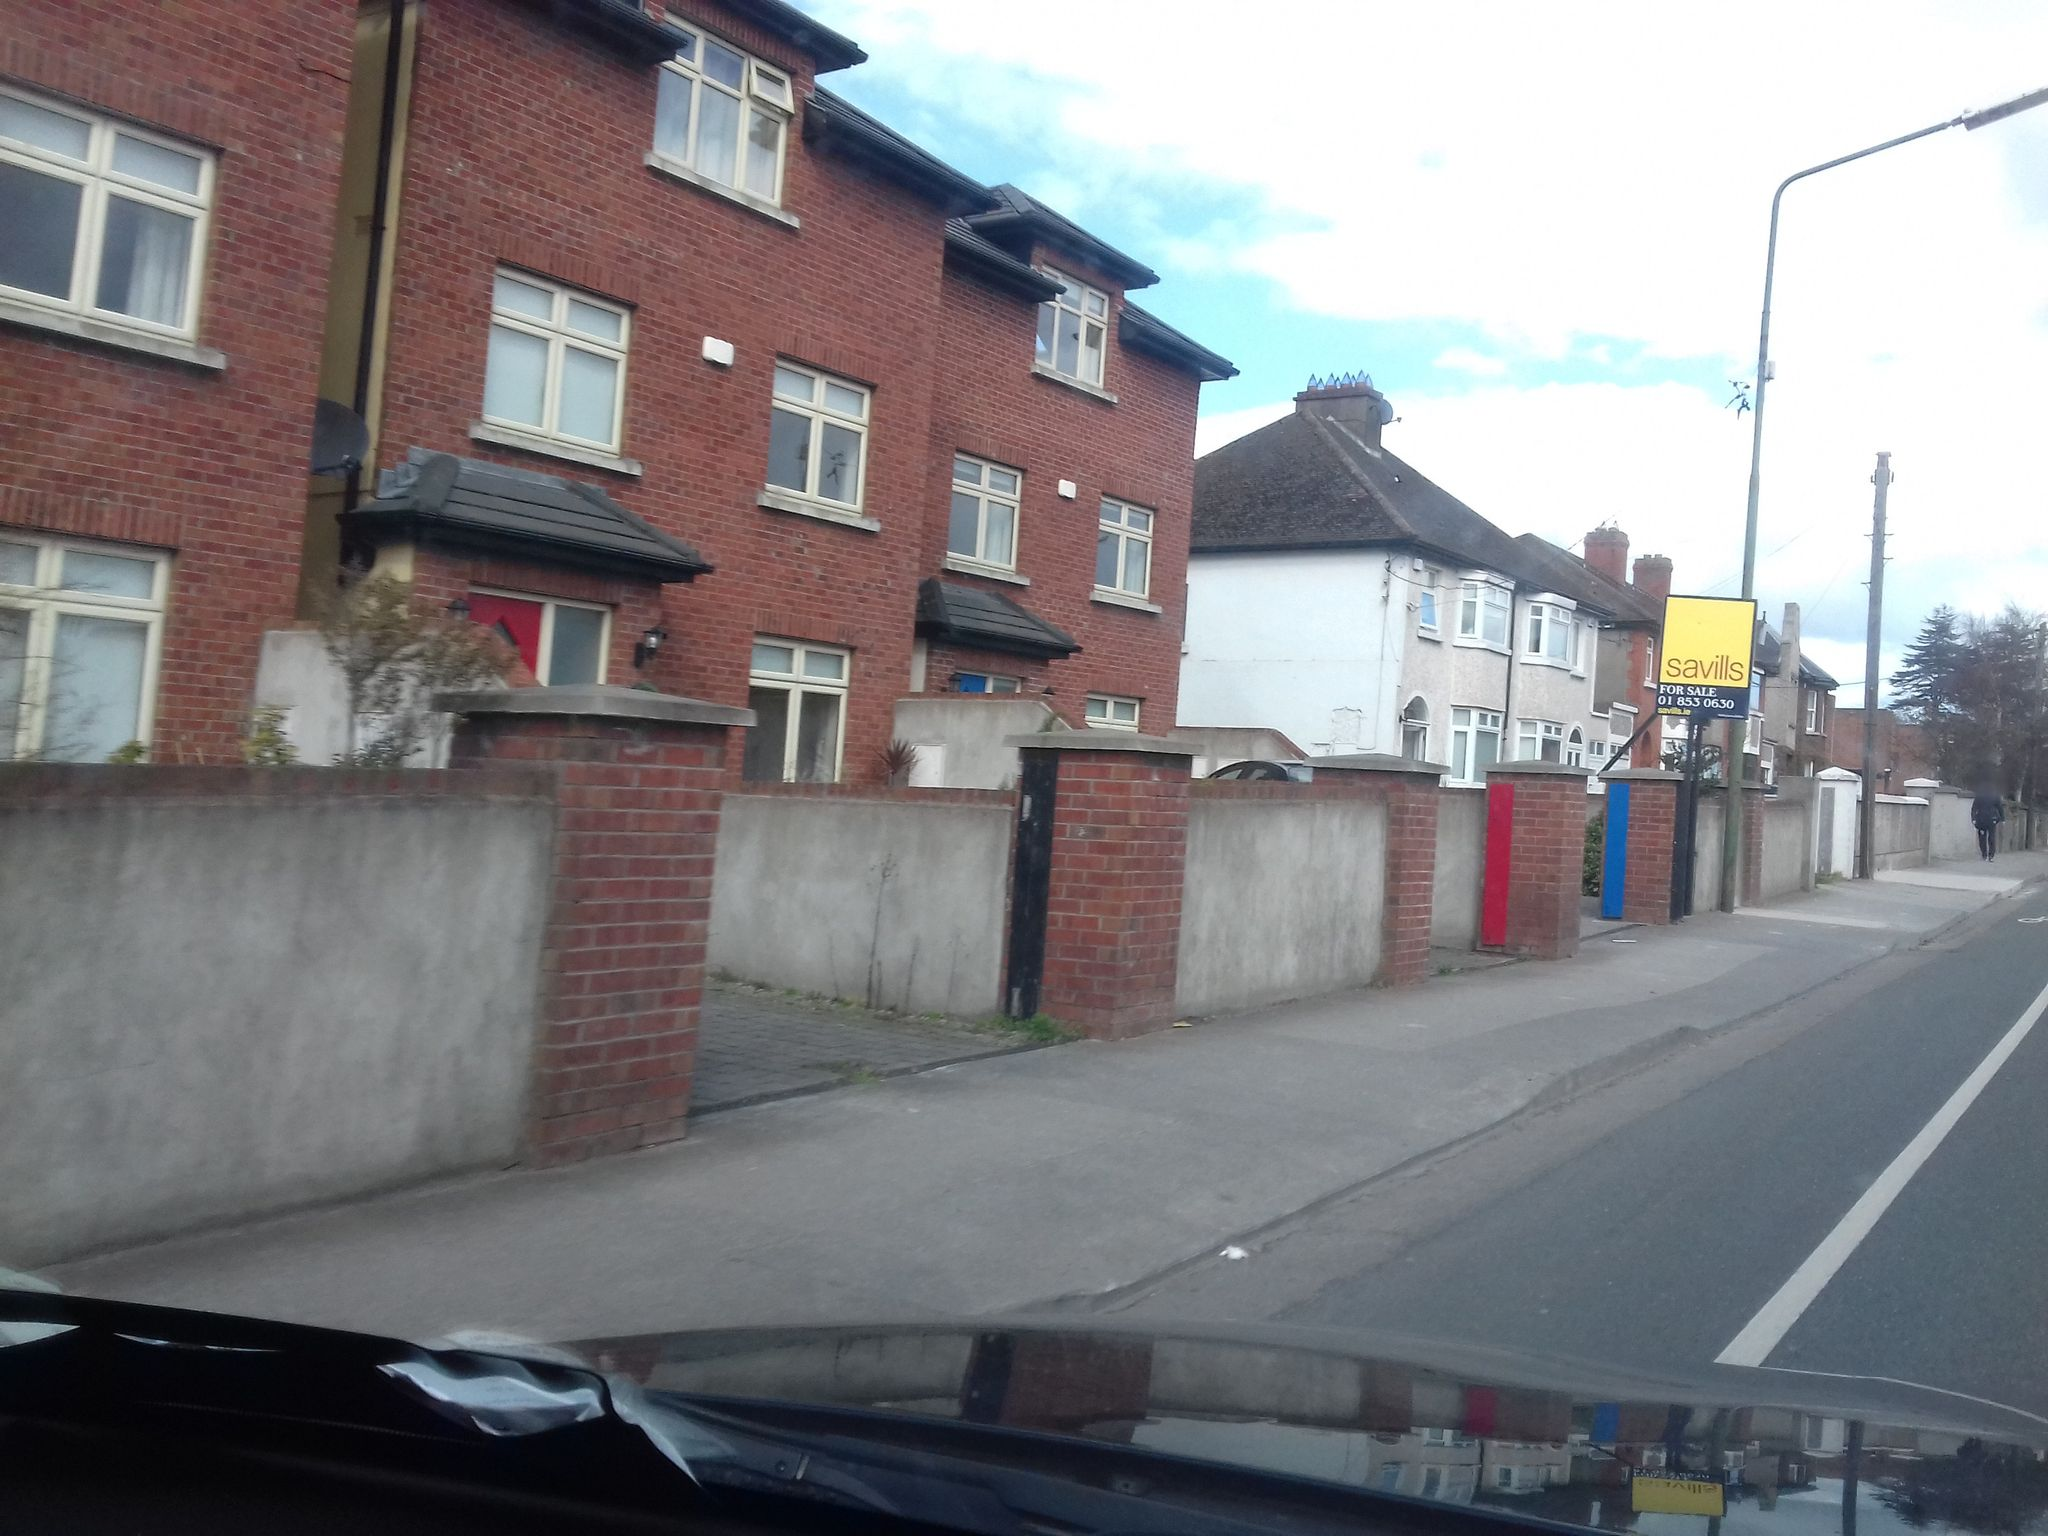property sign: (1655, 561, 1787, 757)
